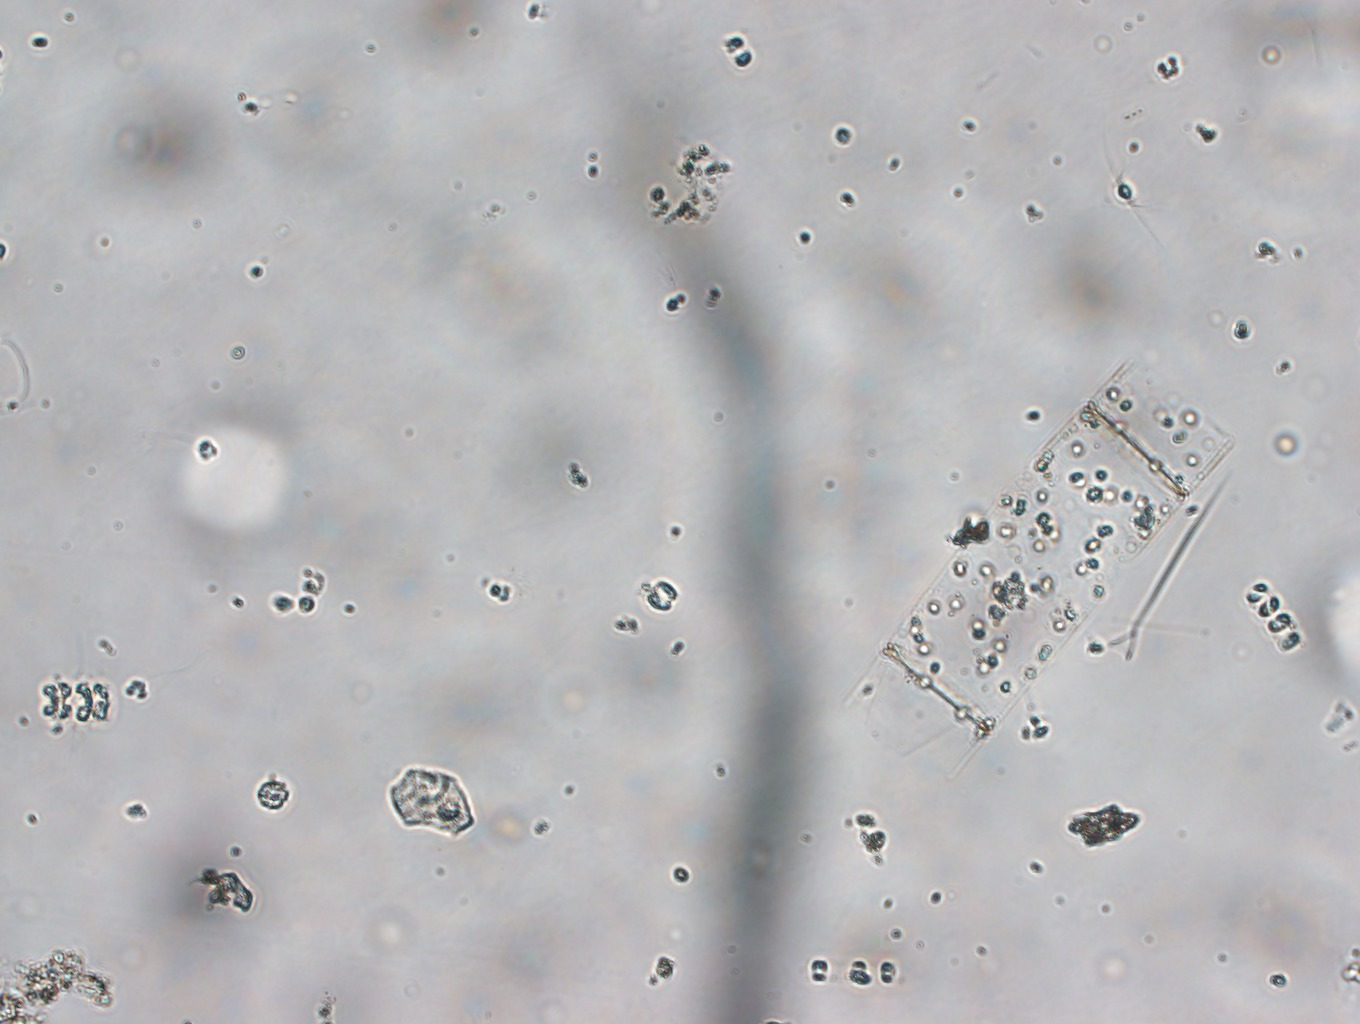guinardia flaccida: (870, 353, 1246, 755)
